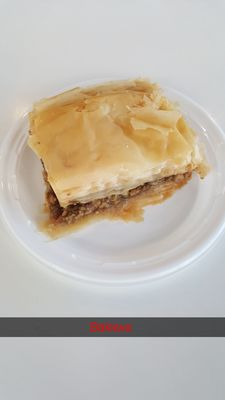sushi: (24, 75, 218, 239)
